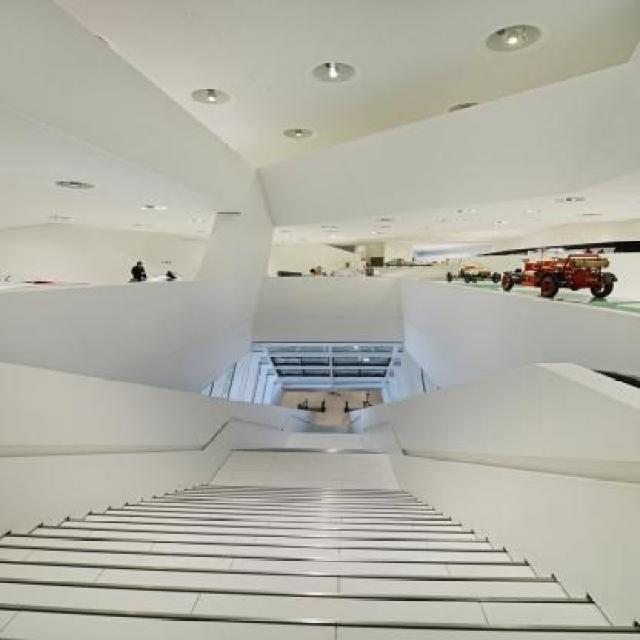stair: (0, 481, 640, 640), (316, 260, 498, 280)
